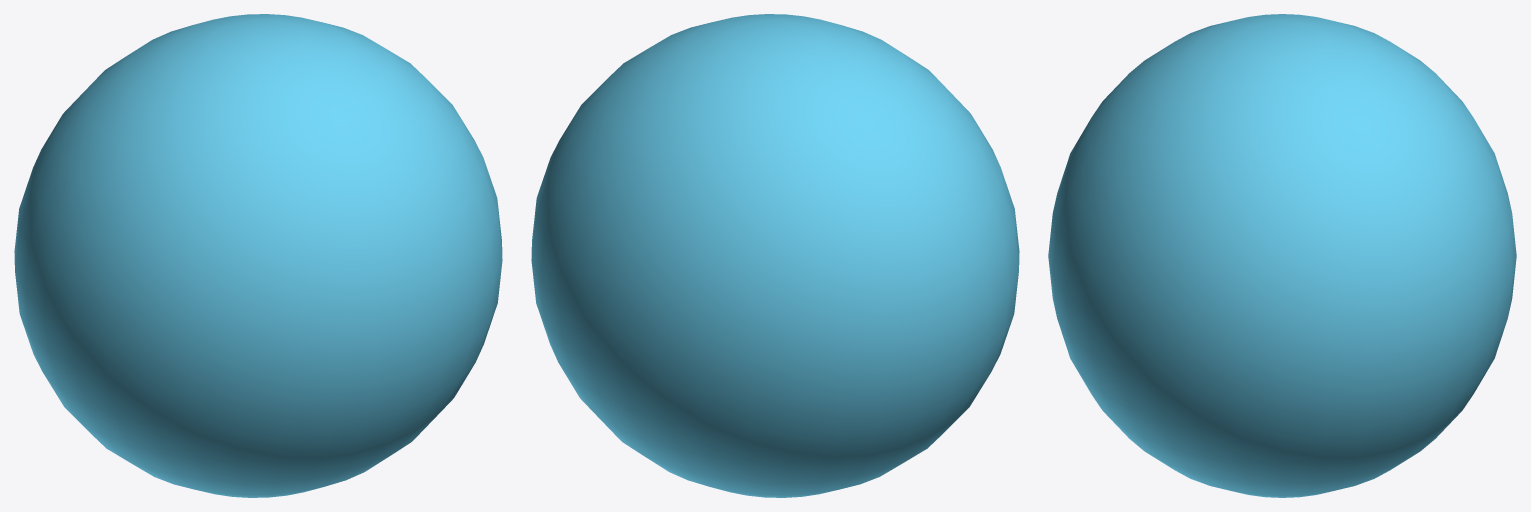
File: planetUI.fbx
The picture shows the model from 3 angles, left to right: view 1: azimuth 30°, elevation 25°; view 2: azimuth 150°, elevation 25°; view 3: azimuth 270°, elevation 25°; orthographic projection.
Parts seen in each view (by area): view 1: Sphere002; view 2: Sphere002; view 3: Sphere002.
Boxes of the visible parts, left/top/right/bottom form: Sphere002: left=14, top=14, right=502, bottom=497; Sphere002: left=531, top=14, right=1019, bottom=497; Sphere002: left=1048, top=14, right=1516, bottom=497.
Bounding box in the file's own units: 59.36 × 58.16 × 56.43.
